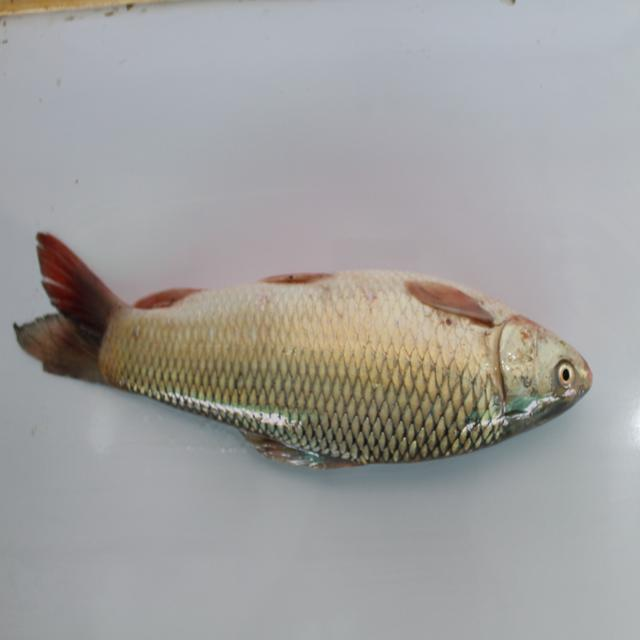Mori: (17, 221, 604, 486)
